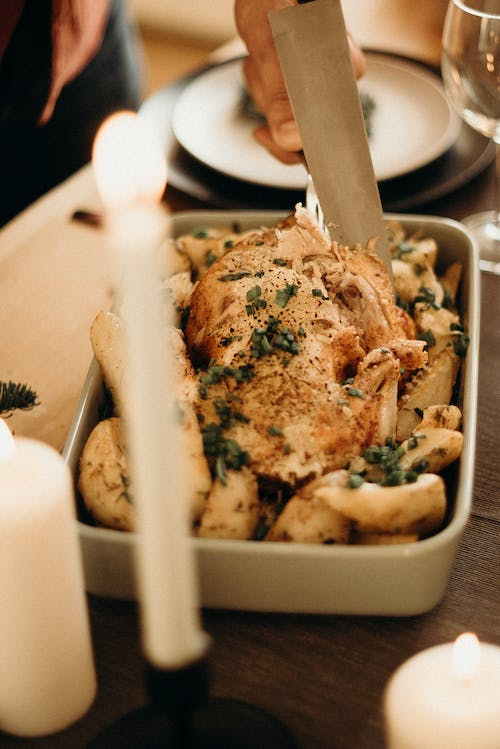knife: (265, 0, 396, 295)
